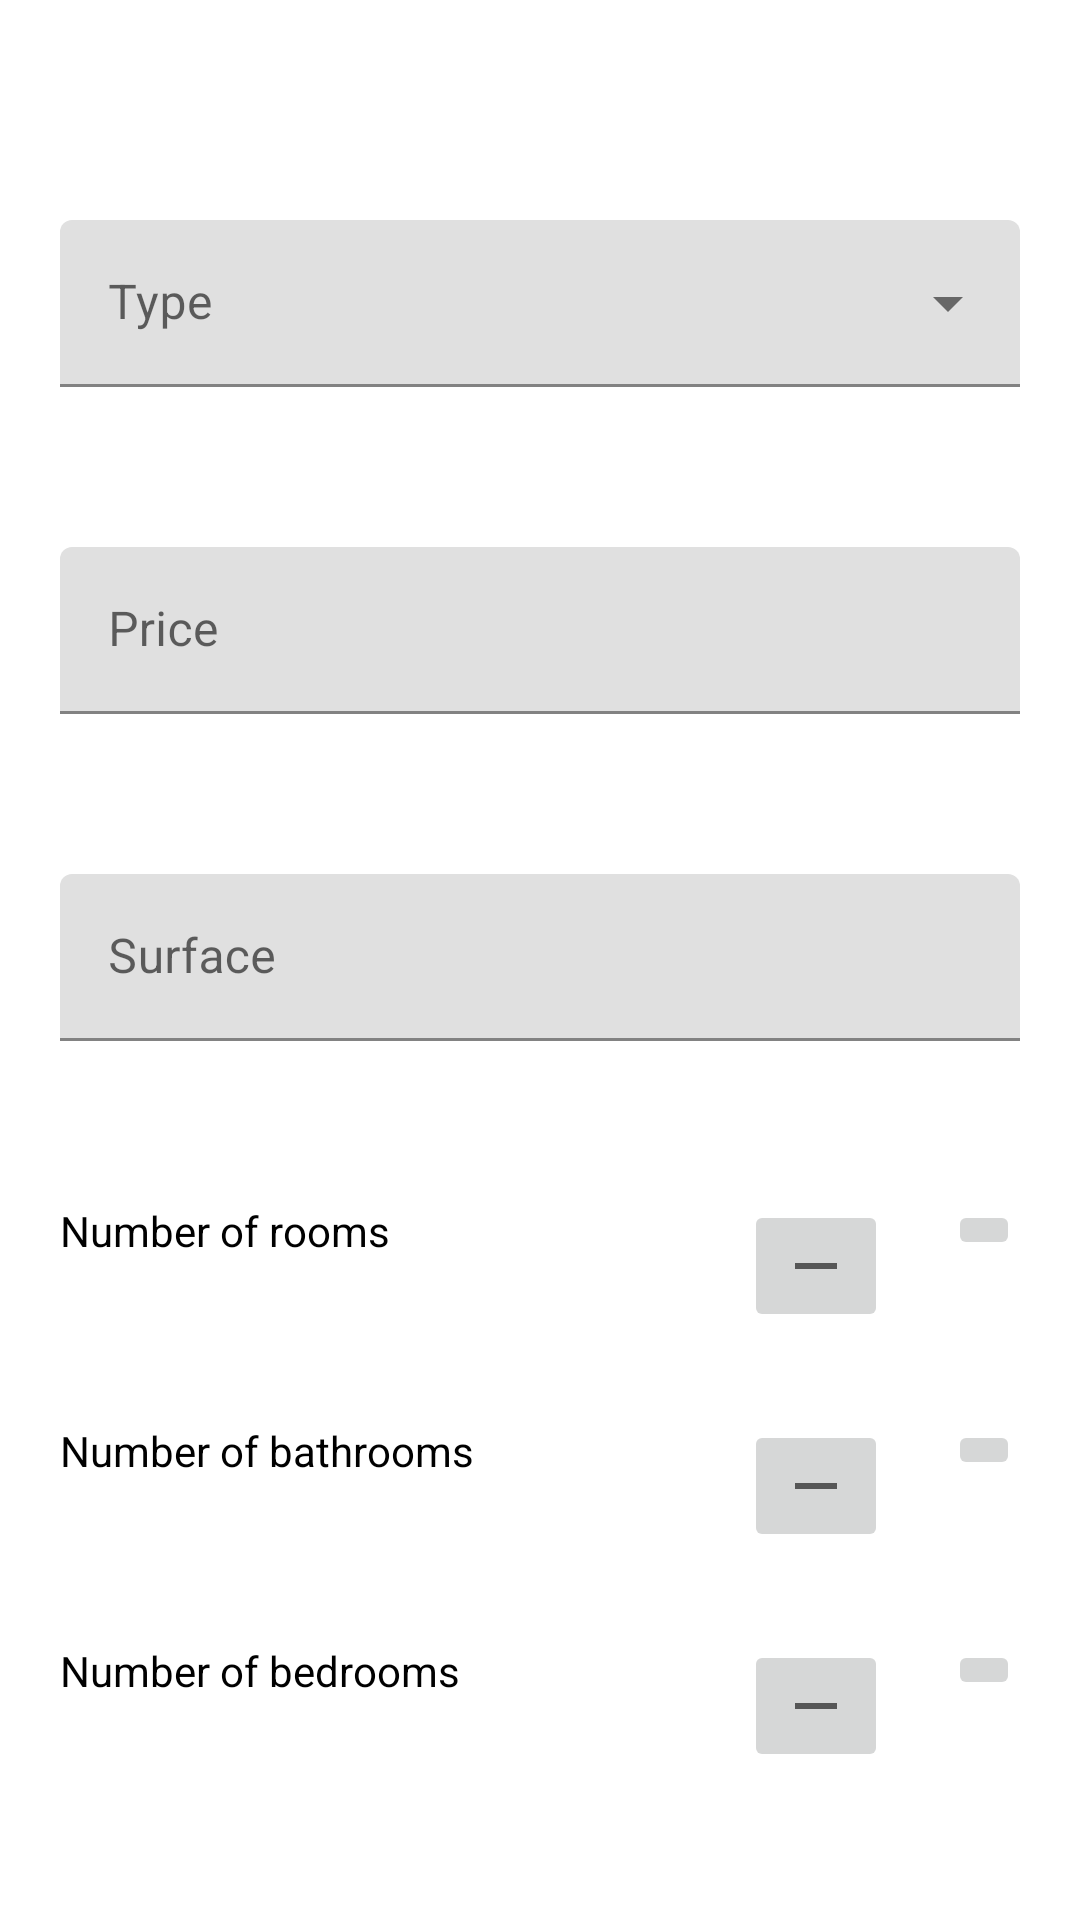

Where icons sit on this 1080px x 1920px app screen, as bbox(x1, y1, x2, y2):
Remove button: bbox(756, 1218, 876, 1314), bbox(756, 1438, 876, 1534), bbox(756, 1658, 876, 1754)
